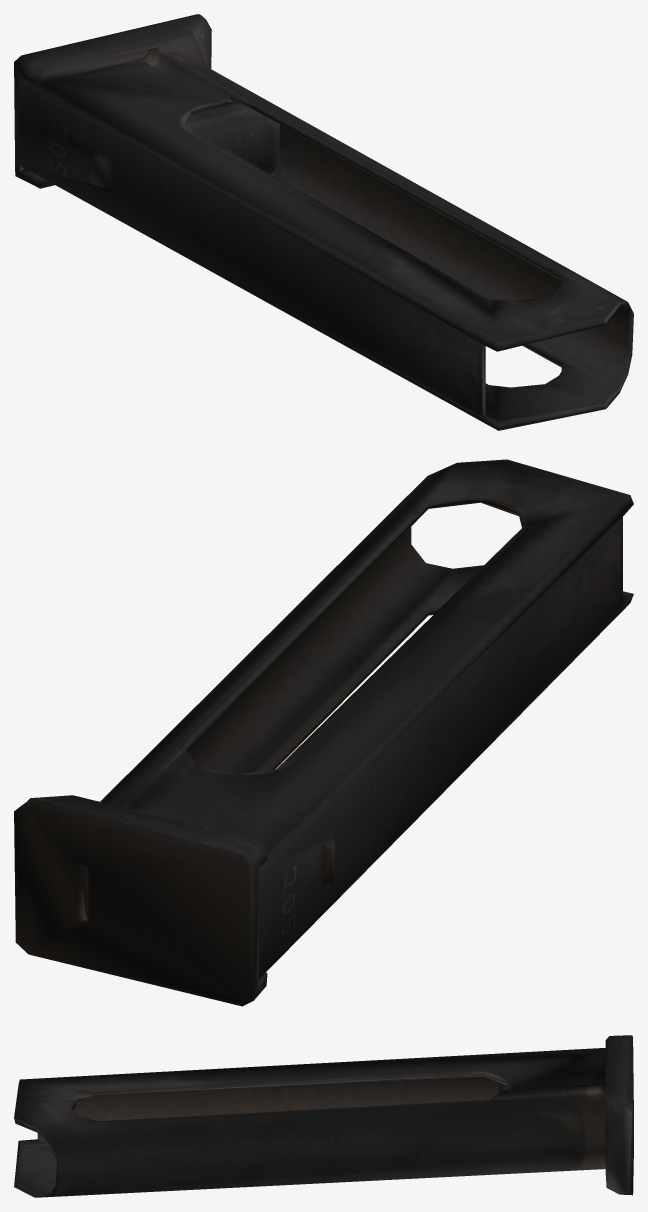
Rendered from Mag380.fbx.
3 views of the same model, one above another, from view 1: azimuth 30°, elevation 25°; view 2: azimuth 150°, elevation 25°; view 3: azimuth 270°, elevation 25° (orthographic). The views are drawn at different scales.
Parts seen in each view (by area): view 1: 380Mag; view 2: 380Mag; view 3: 380Mag.
Part boxes in pixels (box(x1,y1,x2,y2)): 380Mag: box(14, 14, 633, 430); 380Mag: box(14, 459, 633, 1006); 380Mag: box(14, 1035, 633, 1197).
Size of the model in its own units: 0.0328 by 0.0156 by 0.0917.
